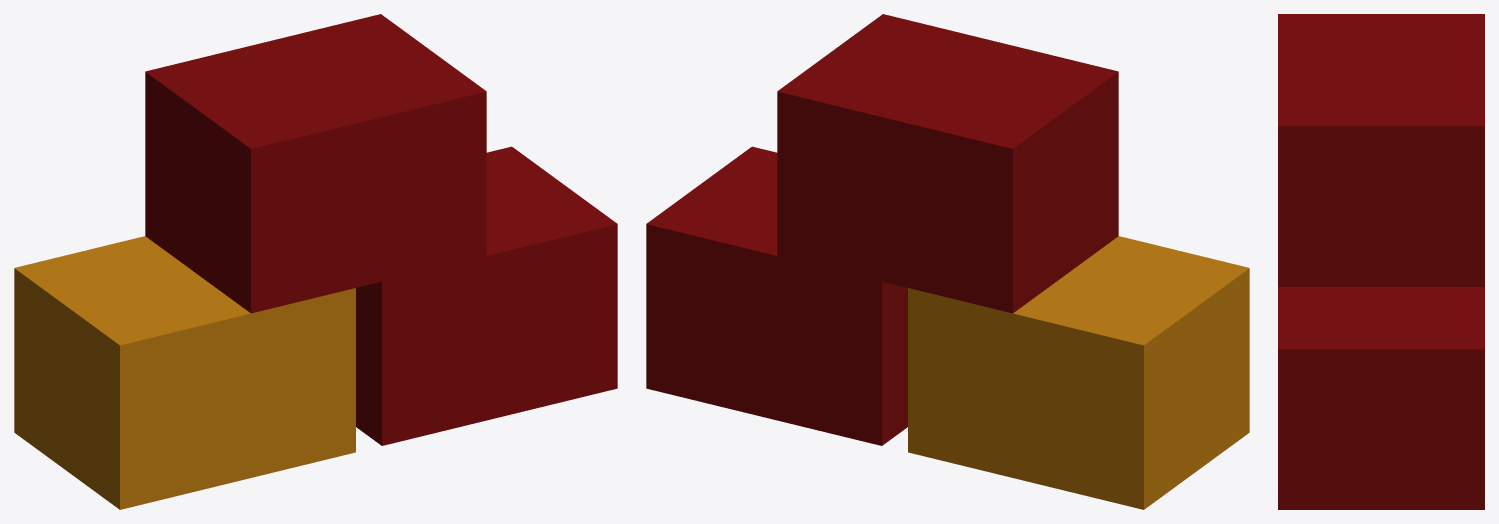
The model's file is Favela_Prop_Roof_Crates.fbx.
3 views of the same model, side by side, from view 1: azimuth 30°, elevation 25°; view 2: azimuth 150°, elevation 25°; view 3: azimuth 270°, elevation 25° (orthographic). The views are drawn at different scales.
Parts seen in each view (by area): view 1: Favela_Prop_Roof_Crates; view 2: Favela_Prop_Roof_Crates; view 3: Favela_Prop_Roof_Crates.
Part boxes in pixels (bbox=[...]): Favela_Prop_Roof_Crates: bbox=[14, 14, 617, 509]; Favela_Prop_Roof_Crates: bbox=[646, 14, 1249, 509]; Favela_Prop_Roof_Crates: bbox=[1278, 14, 1484, 509].
Bounding box in the file's own units: 0.38 × 0.24 × 0.14.
